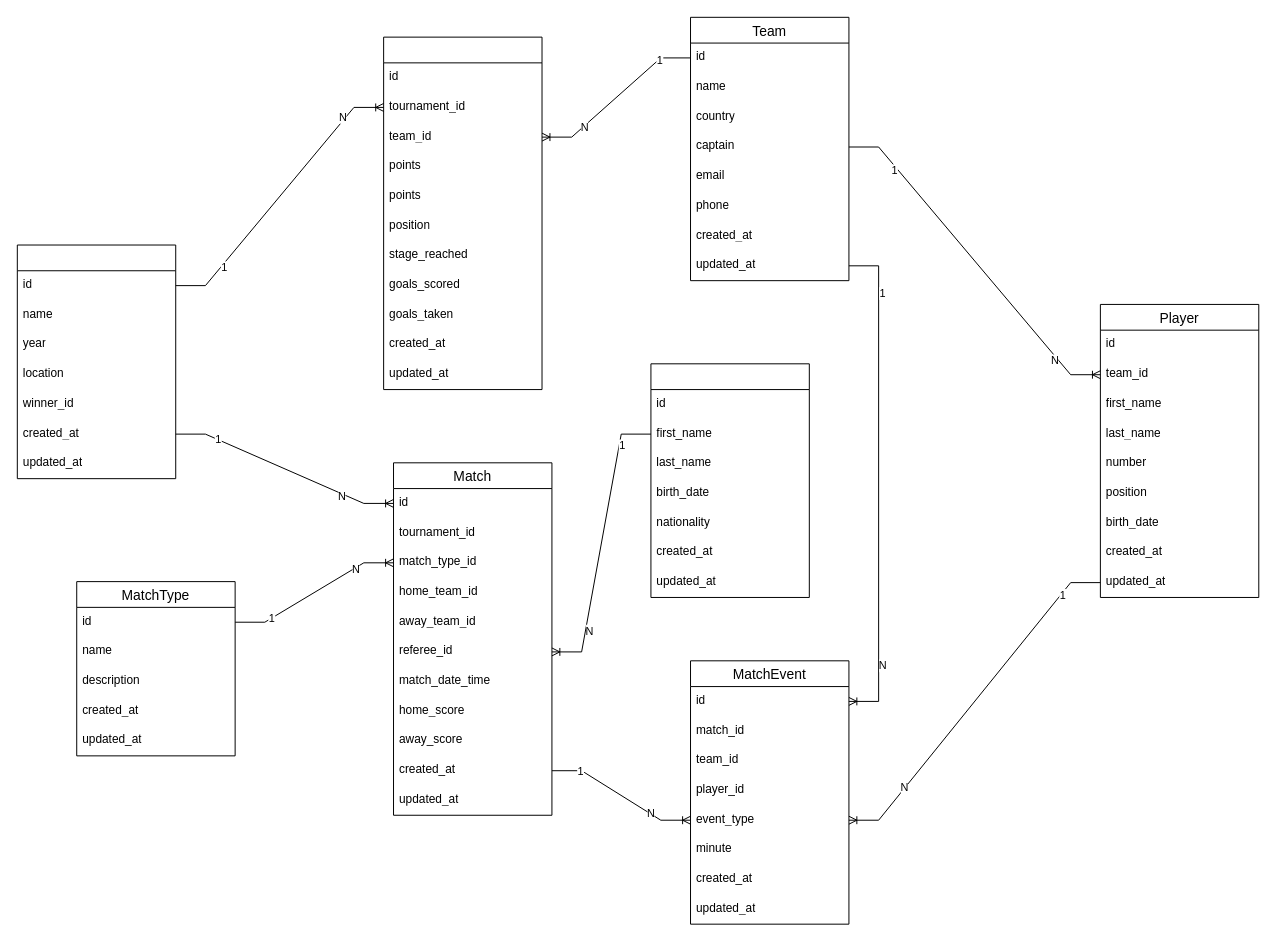
Image size: 1276x944. Some labels were removed from this diagram. Each missing label, with the box of its shape:
Referee: (650, 363, 809, 597)
TeamTournament: (383, 36, 542, 390)
Tournament: (16, 244, 176, 479)
